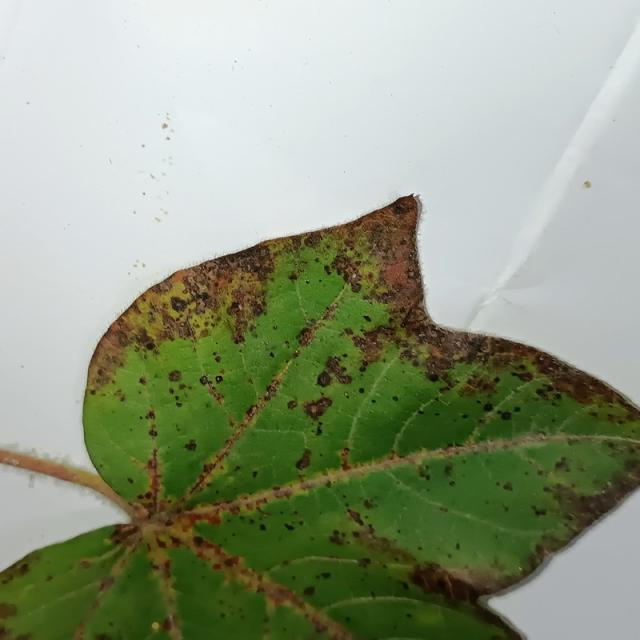Bacterial_Blight: (553, 369, 615, 407), (431, 572, 479, 604), (313, 353, 355, 389), (188, 533, 227, 559), (163, 378, 193, 411), (263, 581, 300, 607), (301, 395, 334, 421), (107, 522, 142, 546), (157, 302, 183, 333), (230, 311, 250, 345), (308, 366, 332, 393), (296, 325, 316, 348), (295, 449, 312, 470), (393, 197, 414, 214), (346, 508, 364, 526), (0, 602, 19, 619), (226, 299, 243, 317), (511, 370, 534, 383), (170, 296, 188, 312), (328, 530, 345, 546), (97, 576, 114, 592), (272, 486, 292, 499), (554, 457, 569, 472), (167, 369, 182, 382), (418, 466, 431, 480), (349, 280, 362, 293), (245, 404, 257, 418), (18, 563, 30, 576), (426, 371, 440, 382), (444, 463, 455, 477), (184, 440, 197, 451), (358, 557, 372, 567), (533, 506, 547, 516), (144, 340, 156, 351), (286, 399, 298, 410), (363, 498, 375, 509), (145, 409, 156, 421), (199, 375, 210, 386), (287, 271, 298, 282), (500, 410, 512, 420), (483, 402, 495, 412), (303, 586, 315, 596), (323, 264, 333, 276), (502, 482, 513, 491), (284, 522, 295, 531), (315, 424, 323, 436), (149, 427, 158, 437), (138, 376, 147, 386), (362, 315, 372, 323), (320, 572, 331, 579), (214, 354, 222, 363), (215, 375, 223, 383), (259, 523, 267, 531), (417, 408, 425, 415), (449, 480, 456, 487), (127, 477, 134, 484), (392, 395, 399, 402), (252, 470, 258, 478), (455, 542, 461, 550), (461, 413, 469, 419), (269, 351, 275, 358), (370, 398, 377, 404), (406, 613, 413, 619), (305, 280, 310, 285)
Cotton: (0, 197, 639, 639)
